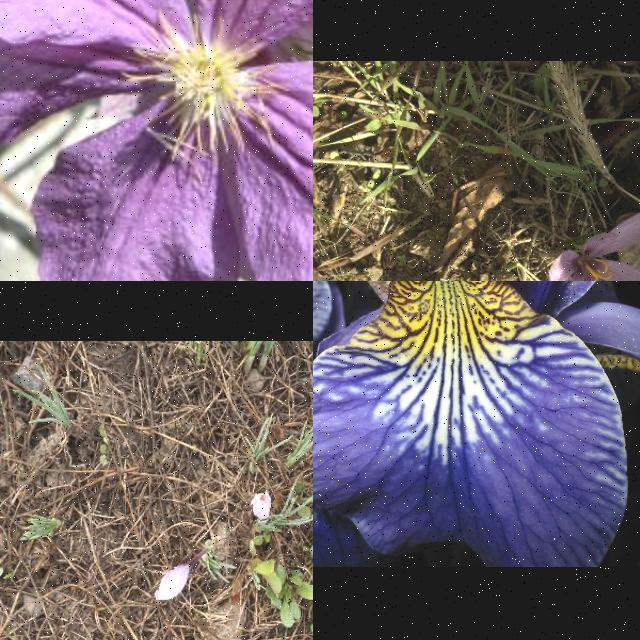flower: (548, 206, 640, 281), (155, 561, 197, 601), (251, 492, 271, 520)
